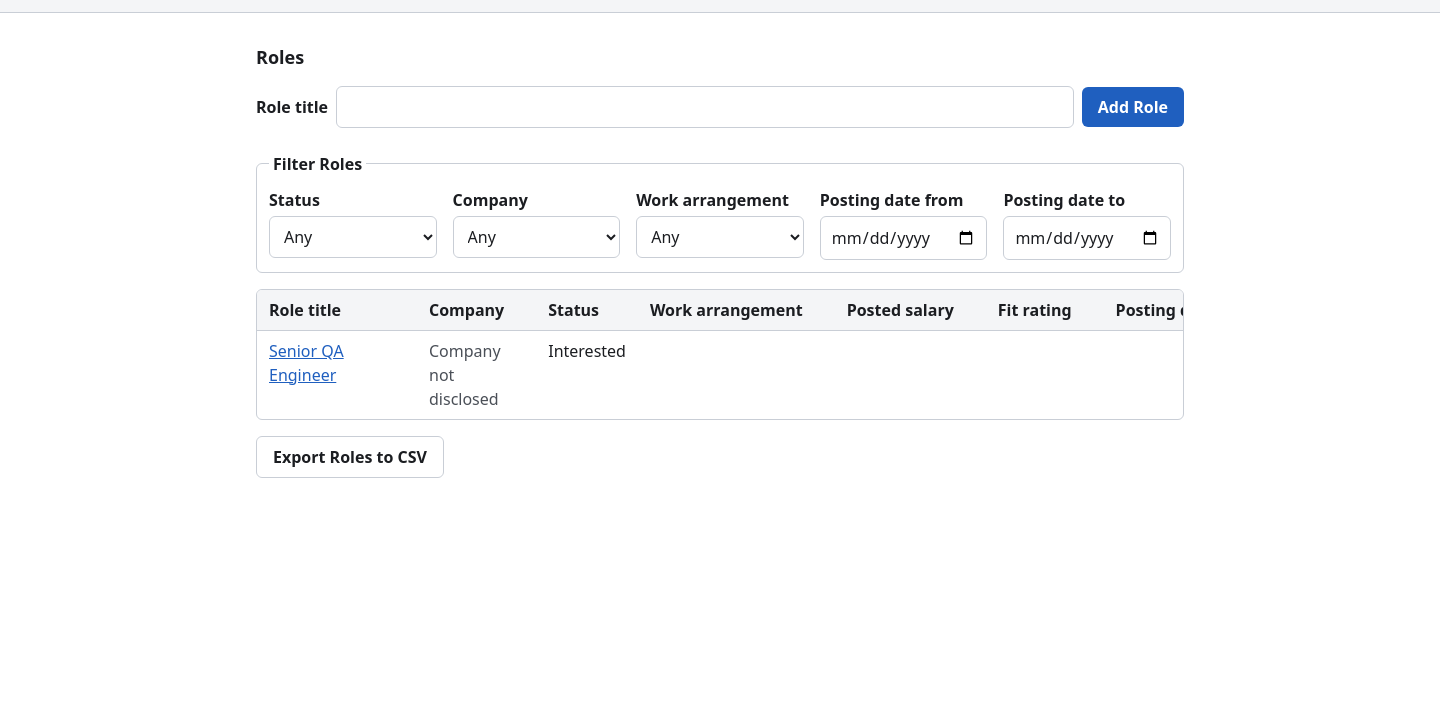
Test case: Interviews on the Role detail page › Given an Interview with Priya, when I delete it and confirm, then the Role has no Interviews or Interviewers and Priya is kept
This screenshot has width=1440, height=720.
Click the link "Senior QA Engineer": (306, 351) 269,340 -> 344,386
(page scrolled)
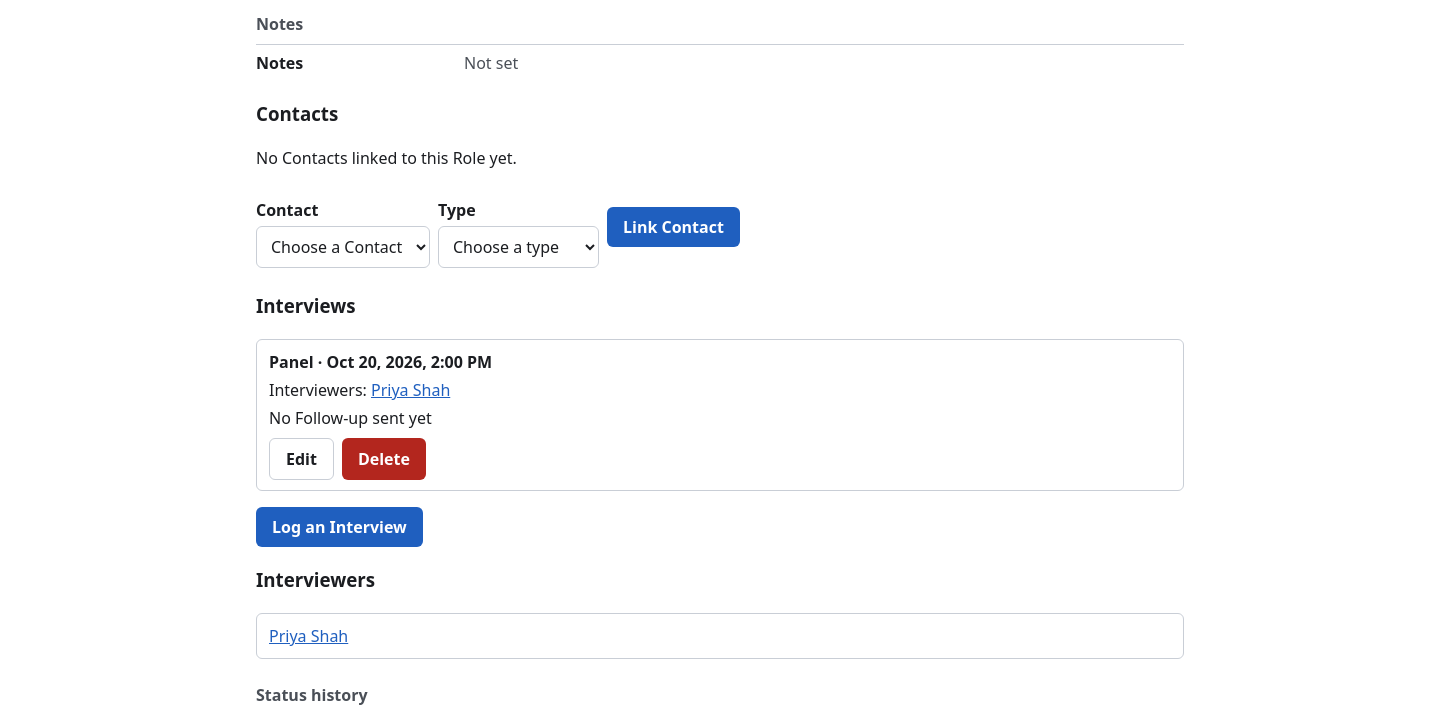
Click the button with aria-label "Delete Panel · Oct 20, 2026, 2:00 PM": (384, 459) 342,438 -> 426,480
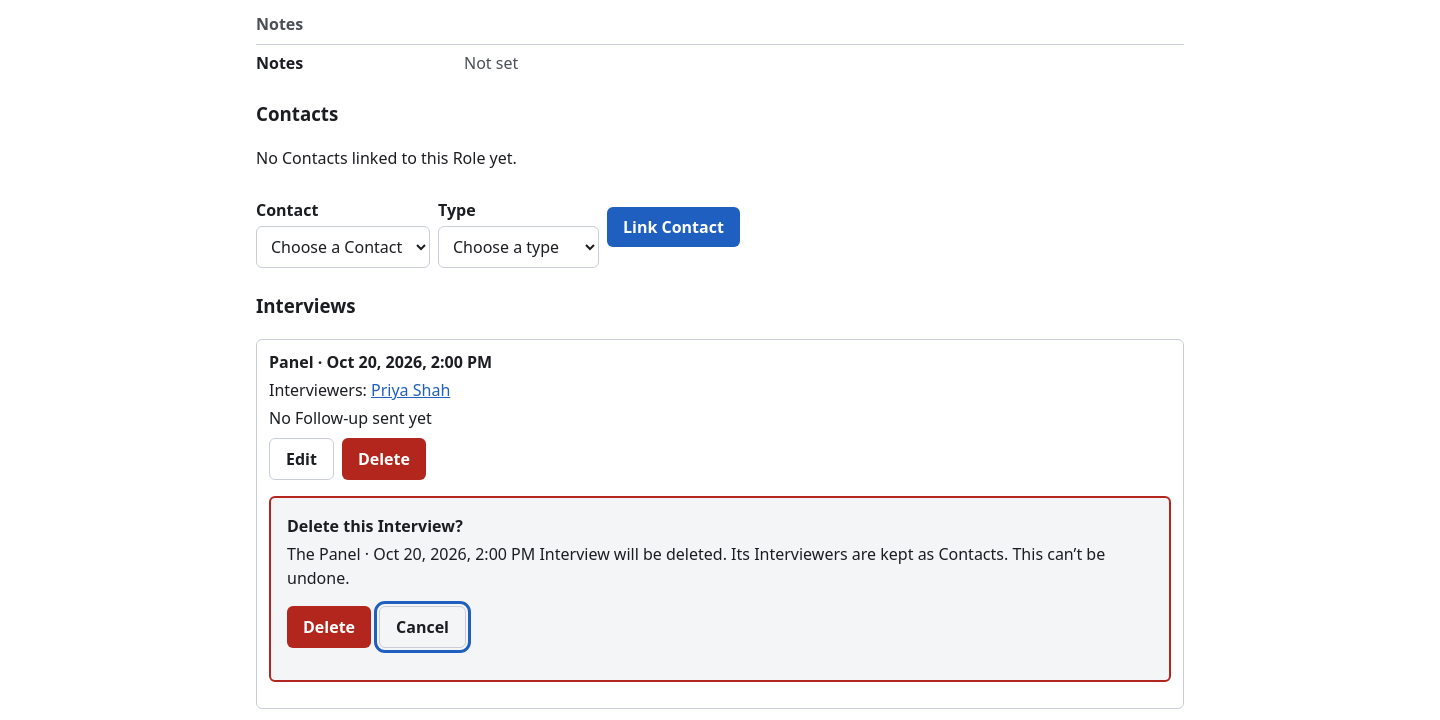
Click the button "Delete" below "Delete this Interview?": (329, 627) 287,606 -> 371,648
(page scrolled)
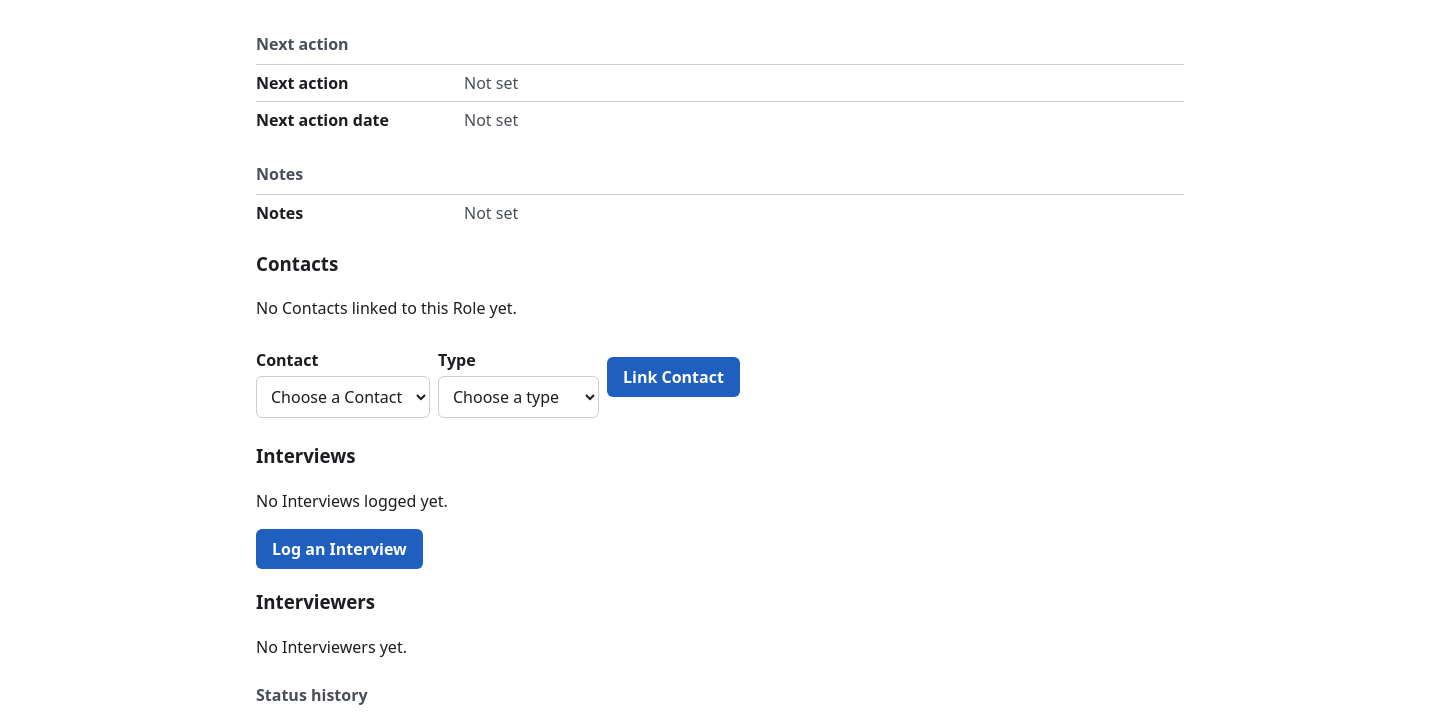
Expected: the text "No Interviews logged yet." is shown, 256,490 -> 448,512
Expected: the element "Interviewers" shows "No Interviewers yet.", 256,636 -> 407,658
